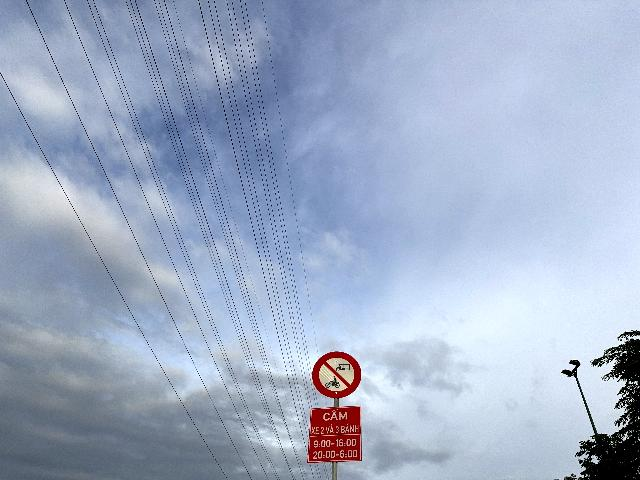cam-xe-2-banh-3-banh: (312, 351, 362, 398)
